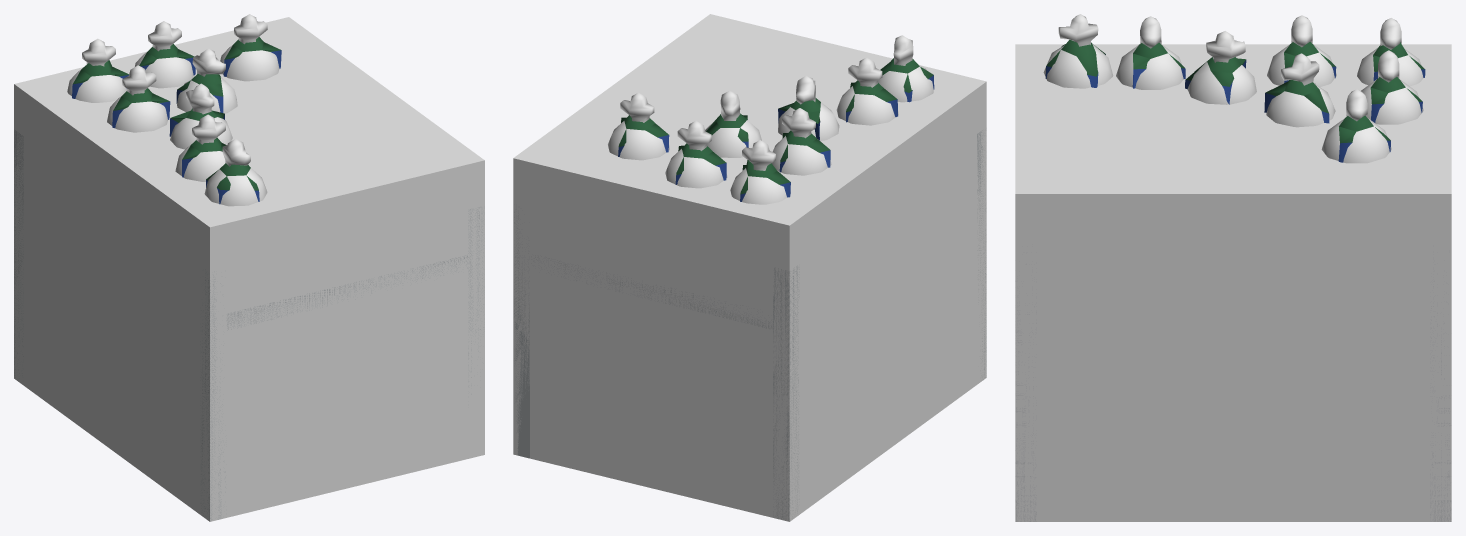
The model's file is port_gas_pallet.dae.
3 views of the same model, side by side, from view 1: azimuth 30°, elevation 25°; view 2: azimuth 150°, elevation 25°; view 3: azimuth 270°, elevation 25° (orthographic). The views are drawn at different scales.
Parts seen in each view (by area): view 1: Colmesh-1, port_gas_pallet_a150, port_gas_pallet_a030; view 2: Colmesh-1, port_gas_pallet_a150, port_gas_pallet_a030; view 3: Colmesh-1, port_gas_pallet_a150, port_gas_pallet_a030.
Part boxes in pixels (bbox=[...]): Colmesh-1: bbox=[14, 17, 484, 521]; port_gas_pallet_a150: bbox=[14, 14, 484, 521]; port_gas_pallet_a030: bbox=[14, 37, 483, 521]; Colmesh-1: bbox=[513, 14, 986, 521]; port_gas_pallet_a150: bbox=[513, 35, 986, 521]; port_gas_pallet_a030: bbox=[514, 58, 986, 521]; Colmesh-1: bbox=[1015, 44, 1451, 521]; port_gas_pallet_a150: bbox=[1015, 14, 1451, 521]; port_gas_pallet_a030: bbox=[1015, 39, 1451, 521].
Bounding box in the file's own units: 1.03 × 1.27 × 1.24.
